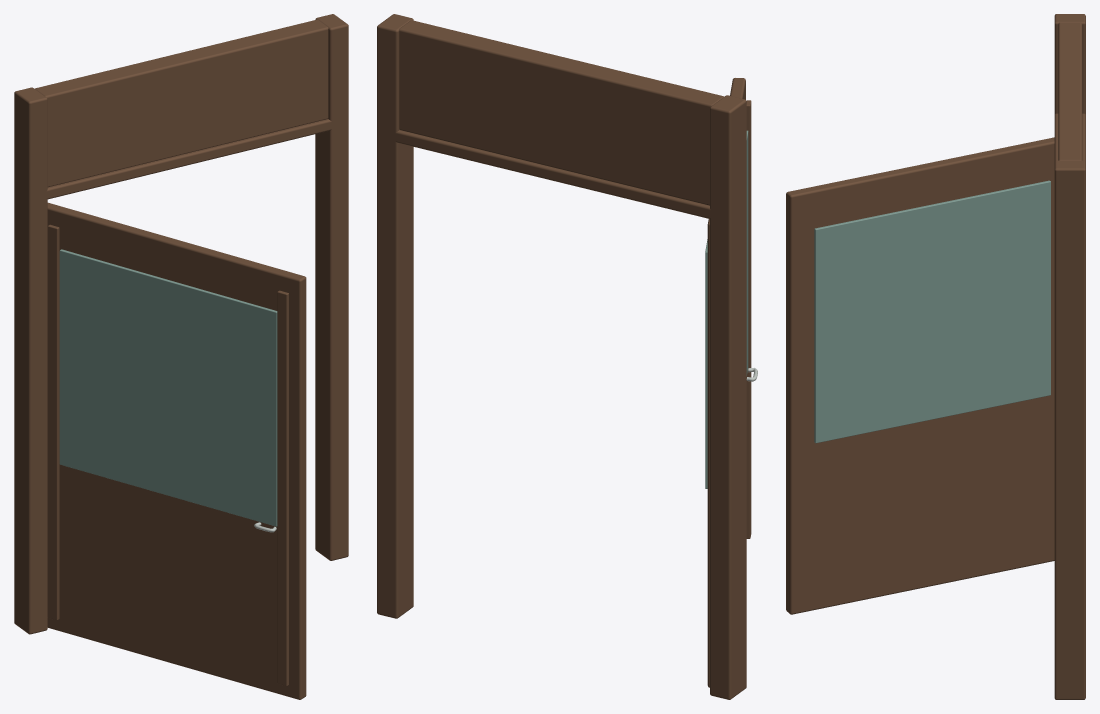
Rendered from abandoned-telephone-exchange-equipment-room-door-0078100b__31974.glb.
The picture shows the model from 3 angles, left to right: view 1: azimuth 30°, elevation 25°; view 2: azimuth 150°, elevation 25°; view 3: azimuth 270°, elevation 25°; orthographic projection. The views are drawn at different scales.
Visible parts, largest first — view 1: equipment-room-door; view 2: equipment-room-door; view 3: equipment-room-door.
Part boxes in pixels (x1=…): equipment-room-door: x1=14, y1=14, x2=348, y2=699; equipment-room-door: x1=377, y1=14, x2=757, y2=699; equipment-room-door: x1=786, y1=14, x2=1085, y2=699.
Size of the model in its own units: 2 by 3.18 by 1.63.
